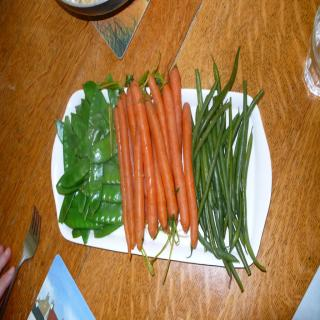Carrot: (114, 66, 198, 260), (130, 76, 158, 242)
